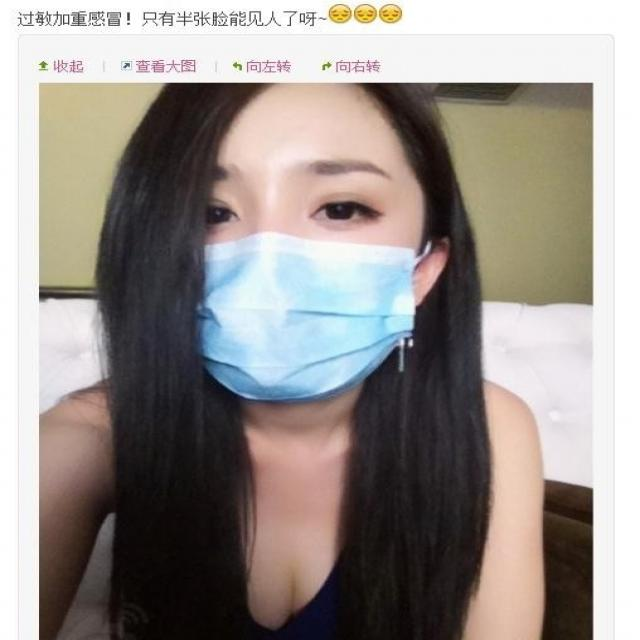mask: (174, 109, 418, 396)
